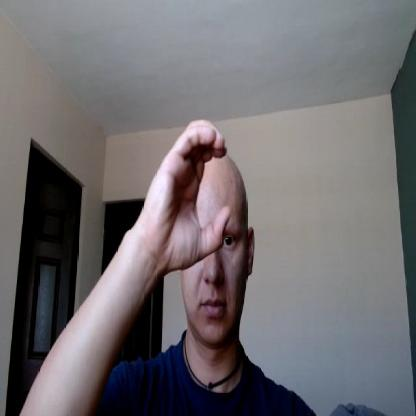C: (145, 122, 232, 271)
